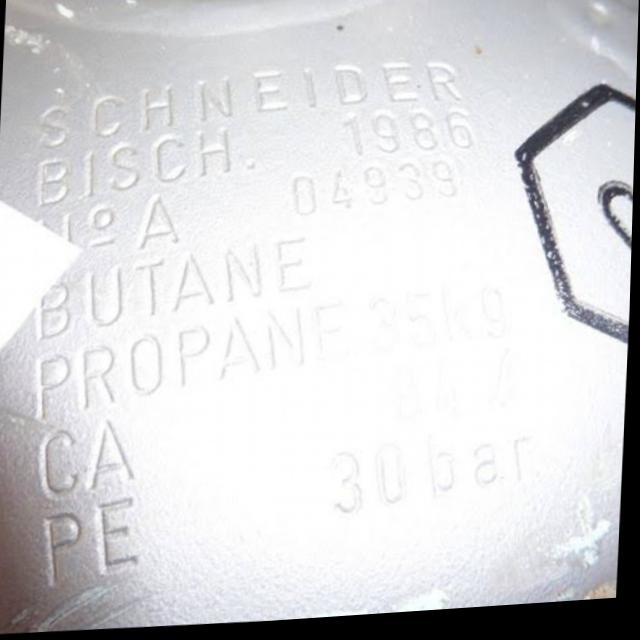ocr: (33, 47, 471, 158), (31, 297, 357, 435), (30, 233, 324, 353), (323, 423, 553, 530), (35, 127, 250, 208), (30, 190, 191, 277), (287, 159, 472, 231), (37, 490, 154, 602), (33, 415, 146, 501), (337, 110, 490, 165)
